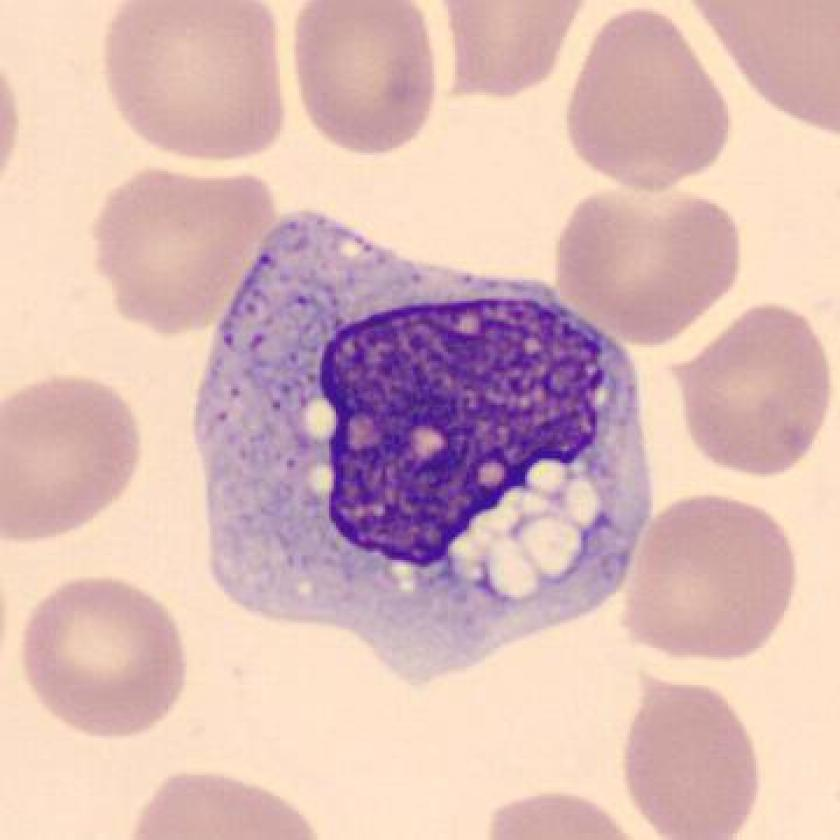monocyte: (176, 184, 675, 725)
